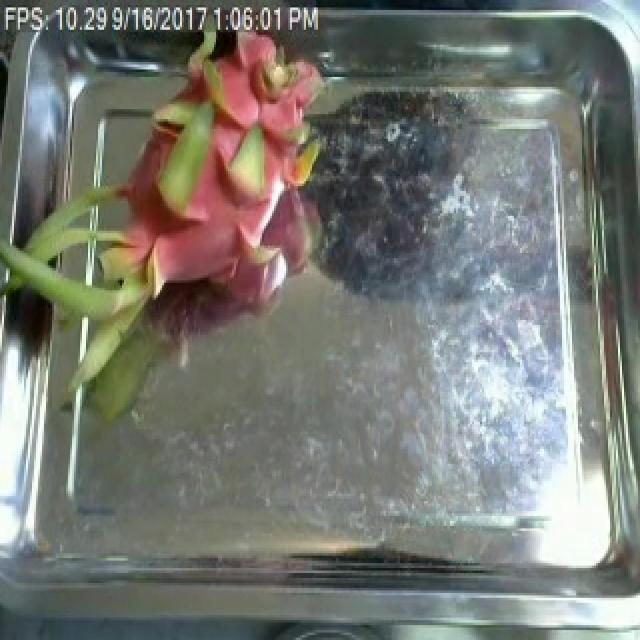fruit: (0, 2, 358, 397)
